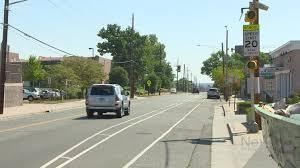20 MPH: (242, 32, 260, 48)
